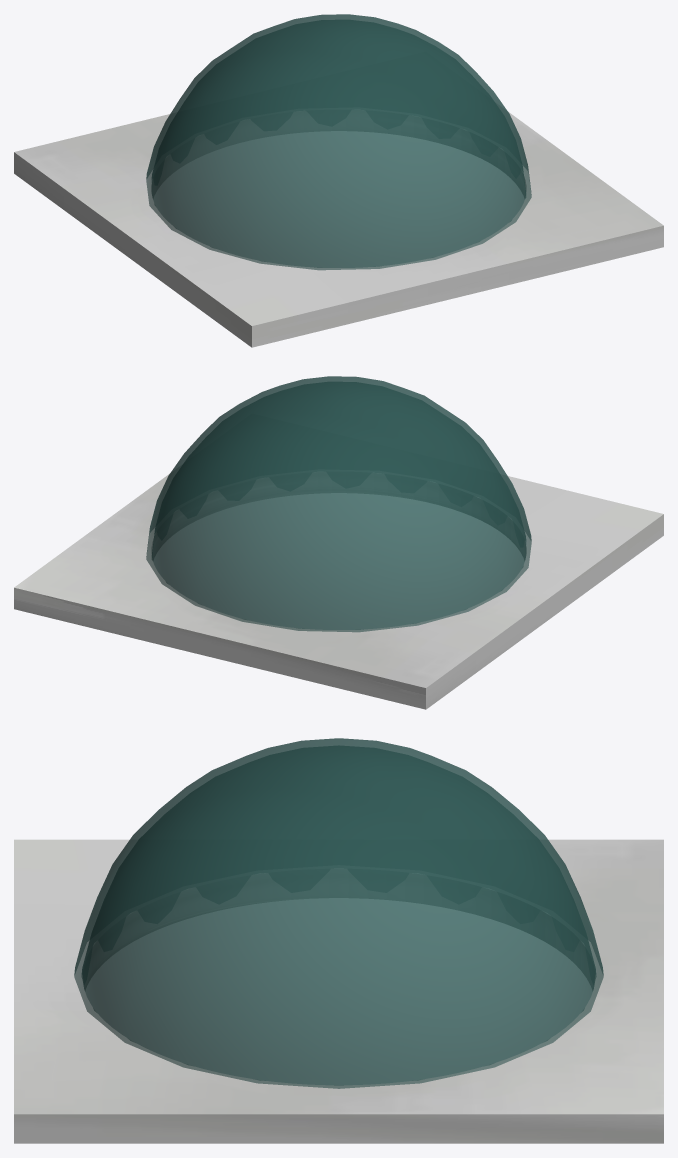
The model's file is DomeCeiling.fbx.
The picture shows the model from 3 angles, top to bottom: view 1: azimuth 30°, elevation 25°; view 2: azimuth 150°, elevation 25°; view 3: azimuth 270°, elevation 25°; orthographic projection. The views are drawn at different scales.
Visible parts, largest first — view 1: pSphere2; view 2: pSphere2; view 3: pSphere2.
Part boxes in pixels (x1,y1,x2,y2): pSphere2: (14,14,663,347); pSphere2: (14,376,663,709); pSphere2: (14,738,663,1143).
Size of the model in its own units: 1000 by 413 by 1000.
2 materials, 1 textured.
